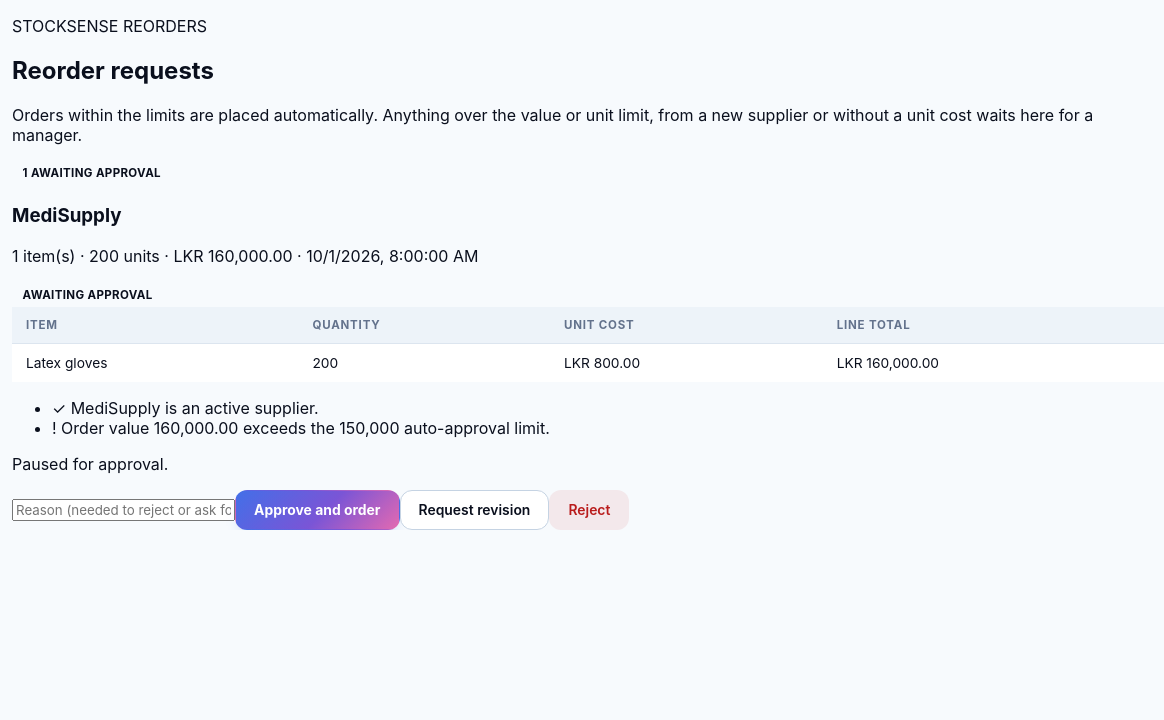
Test: ReorderApprovals › requires a reason before rejecting
Click the button "Reject".
click(589, 510)  # box [549,490,629,530]
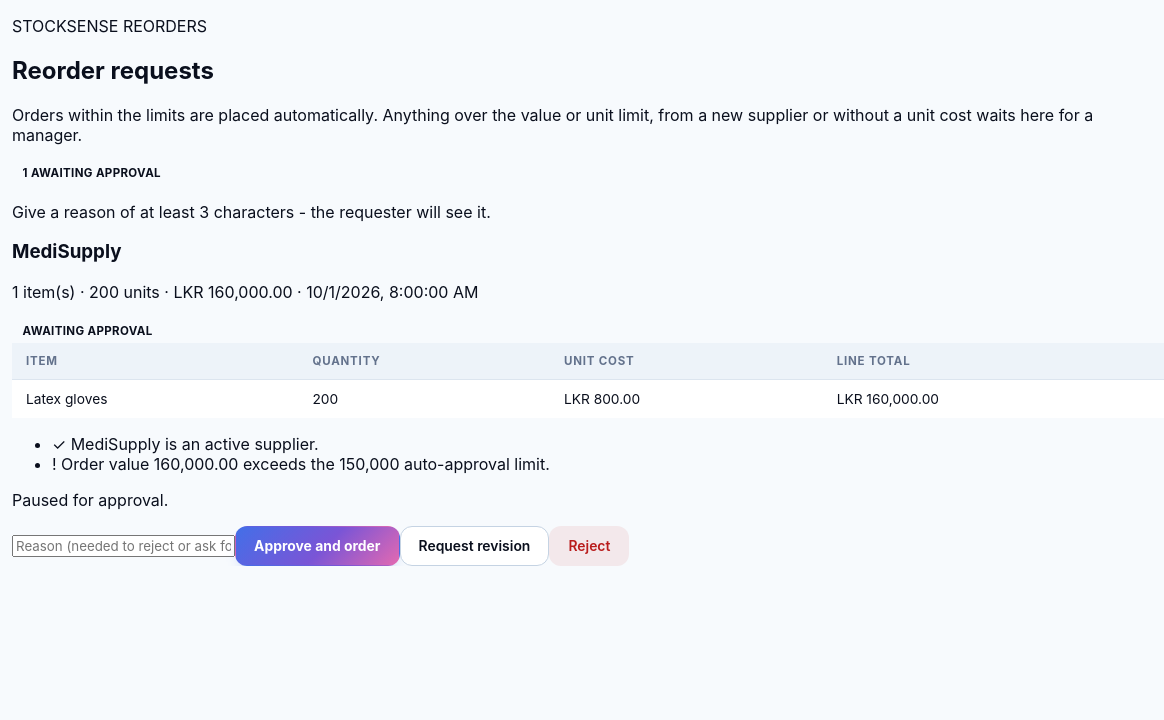
Expected: the text "Give a reason of at least 3 characters - the requester will see it." is shown, [12,202,491,222]
